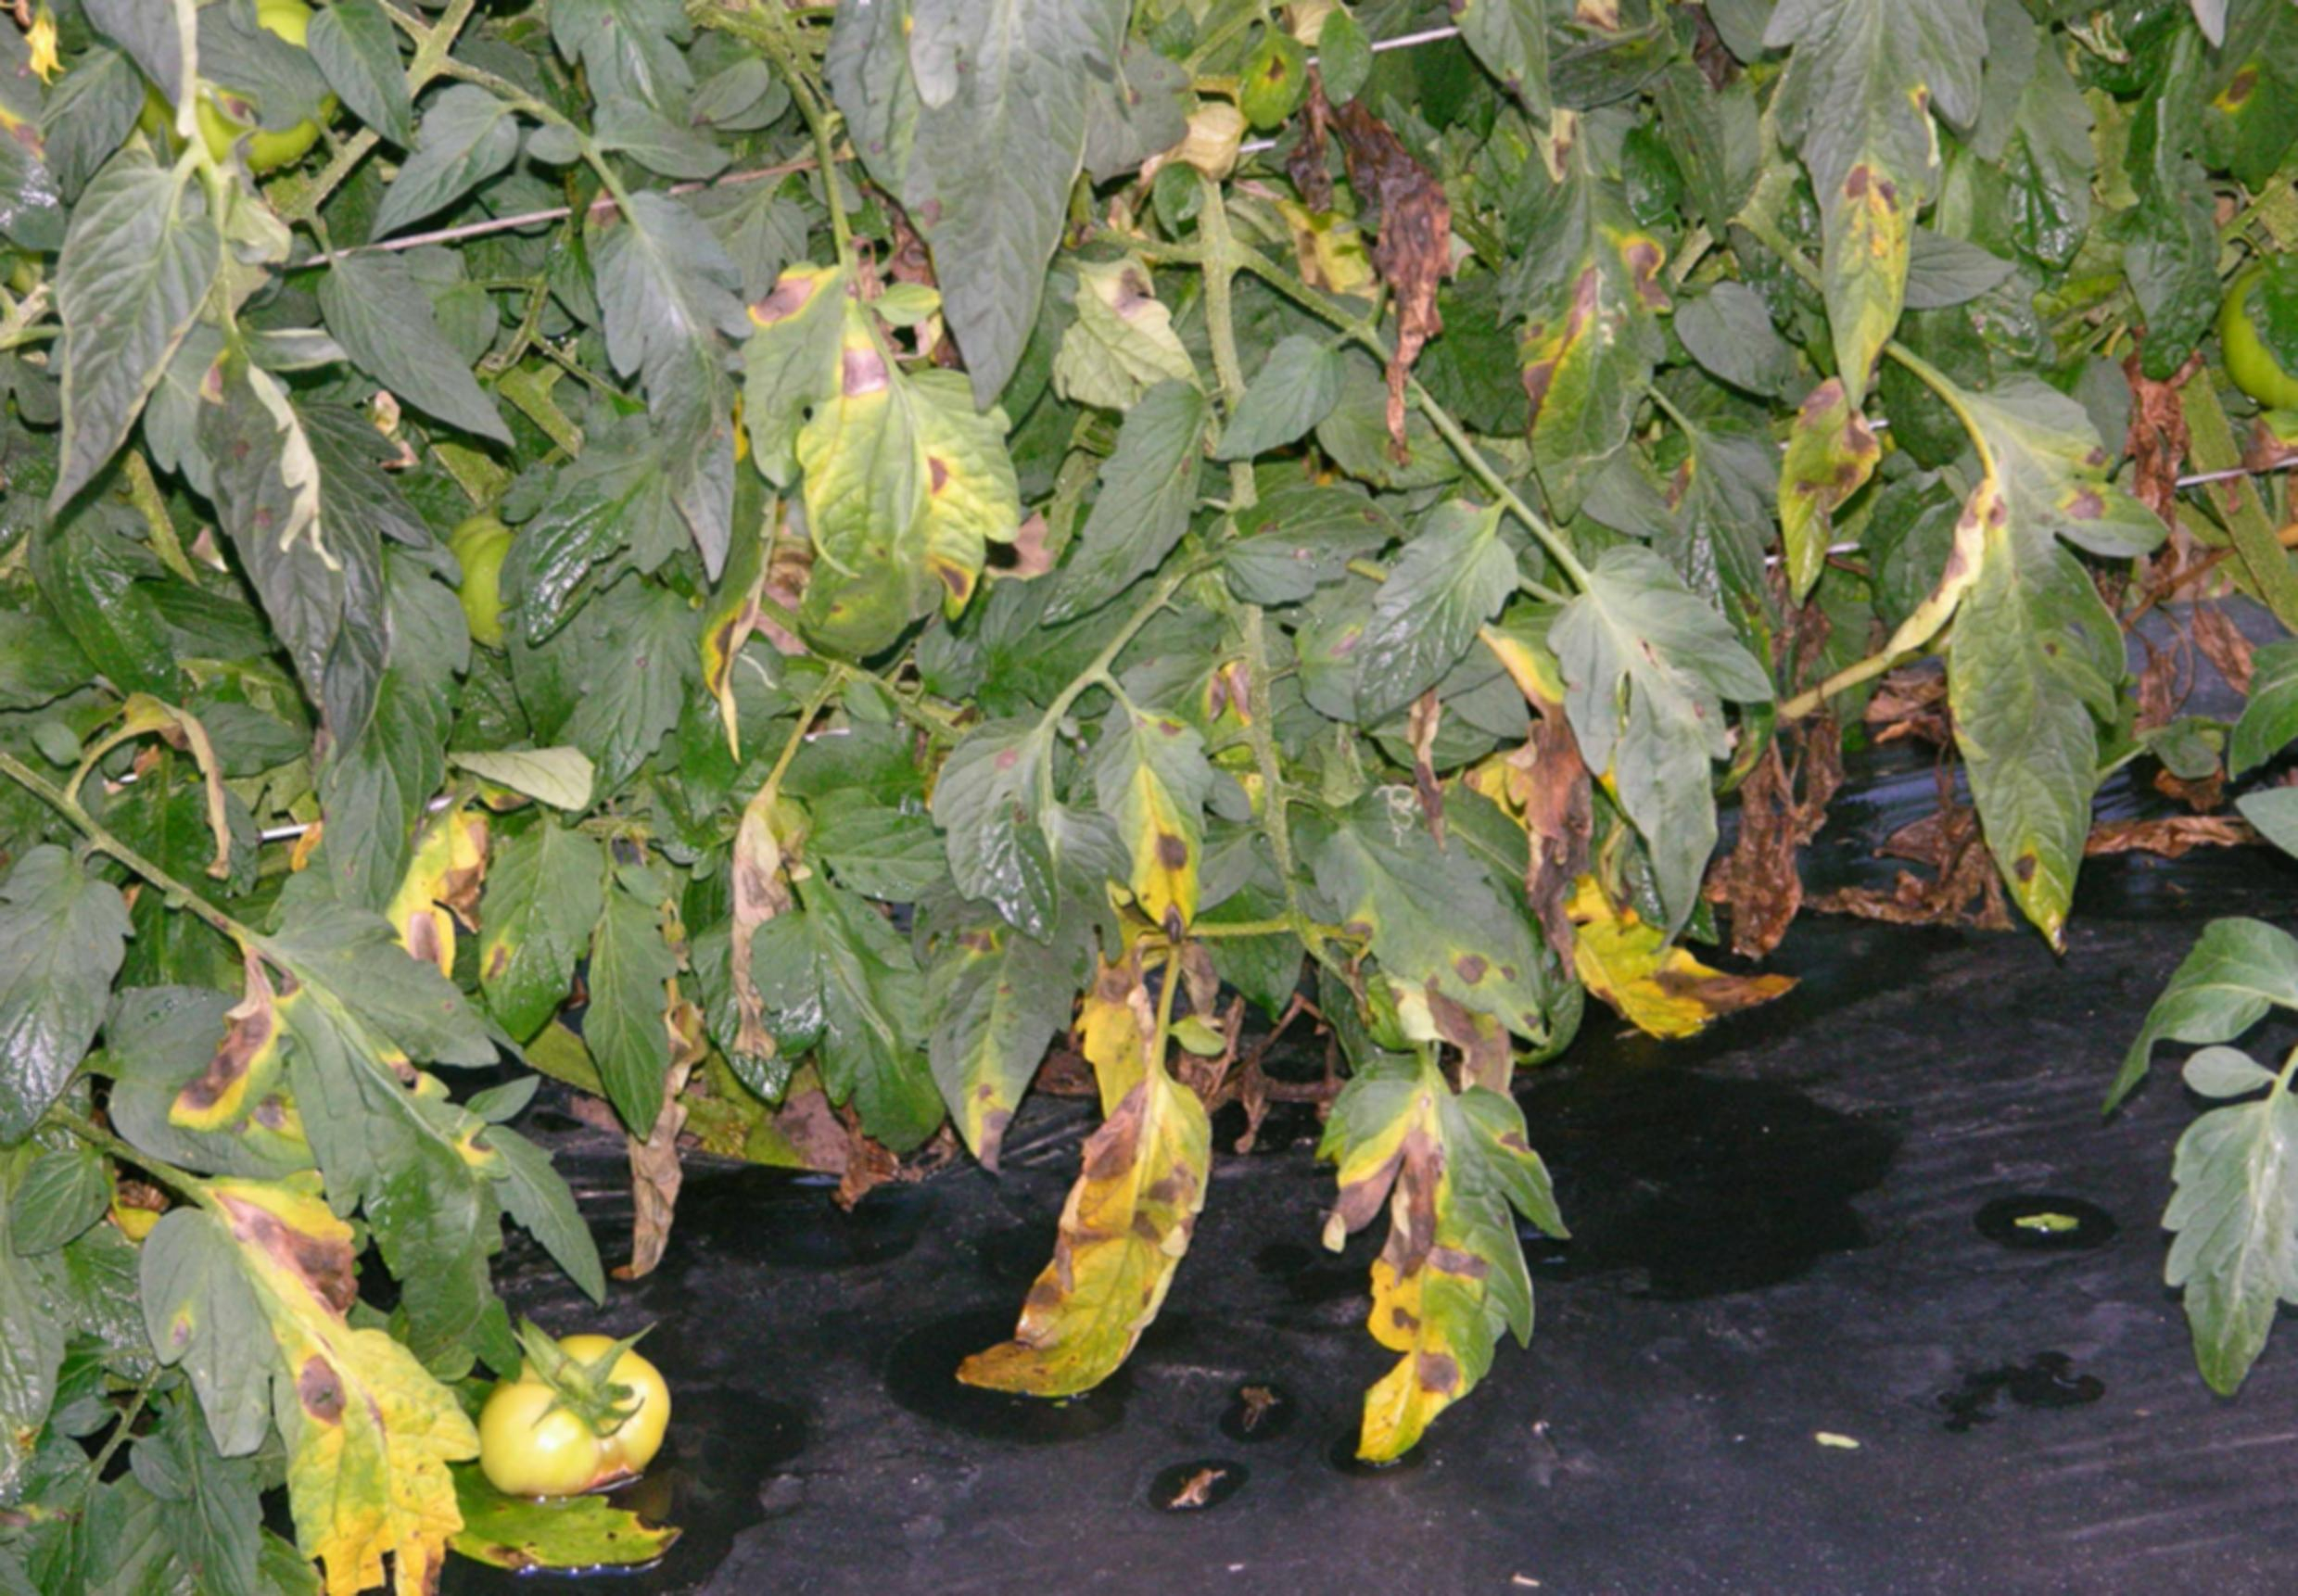Tomato Early blight leaf: (1924, 323, 2157, 959), (127, 1147, 447, 1596), (953, 1022, 1243, 1496), (1727, 0, 1999, 400), (1310, 1060, 1537, 1496), (1484, 119, 1661, 524), (781, 382, 1023, 639), (456, 810, 627, 1086), (1088, 678, 1203, 943), (1762, 374, 1898, 585), (1175, 0, 1393, 115)
Tomato leaf: (51, 150, 206, 503), (2136, 1074, 2298, 1393), (1035, 384, 1229, 637), (627, 199, 742, 601), (1343, 492, 1523, 740), (0, 849, 131, 1152), (341, 258, 512, 444), (351, 98, 529, 251)
